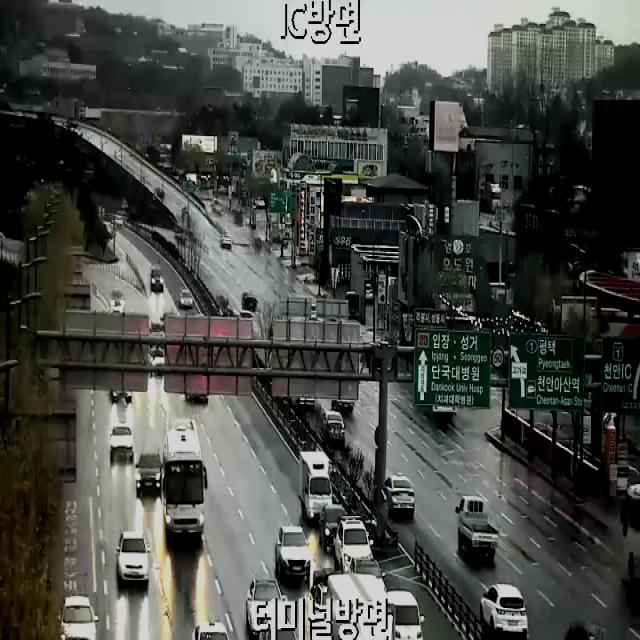Bus: (164, 419, 208, 534), (620, 483, 640, 584)
Car: (246, 578, 287, 638), (480, 585, 528, 636), (335, 515, 374, 573), (275, 525, 311, 580), (58, 596, 100, 640), (387, 591, 424, 640), (117, 531, 150, 581), (136, 445, 162, 499), (320, 505, 348, 552), (385, 471, 415, 514), (349, 558, 386, 592), (110, 424, 134, 456), (192, 621, 230, 640), (322, 411, 346, 439), (148, 348, 164, 377), (150, 270, 164, 294), (242, 292, 258, 312), (110, 389, 132, 403), (179, 289, 193, 307), (149, 322, 165, 337), (112, 290, 125, 307), (297, 397, 315, 408), (366, 284, 374, 304), (221, 236, 232, 250), (309, 304, 317, 320), (255, 197, 265, 208)
Truck: (327, 573, 395, 640), (456, 495, 498, 562), (300, 451, 333, 524), (345, 290, 359, 320)
